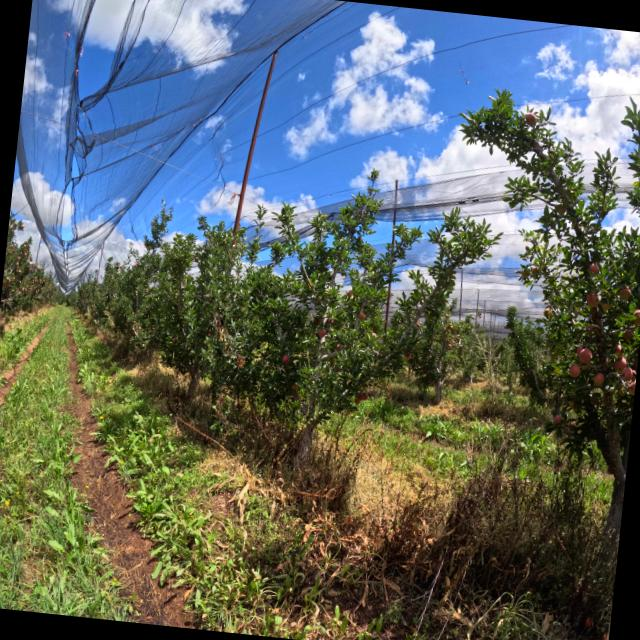-FireBlight-: (211, 313, 227, 341), (236, 354, 244, 369)
